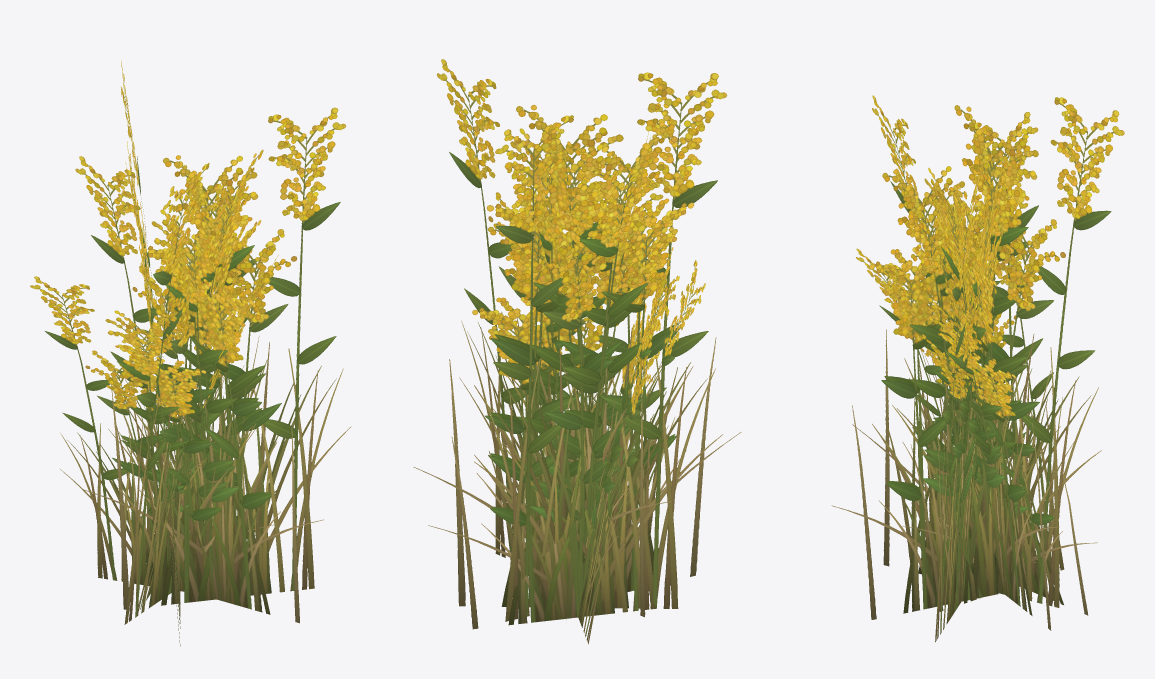
The model's file is Weeds_Autumn_A.fbx.
3 views of the same model, side by side, from view 1: azimuth 30°, elevation 25°; view 2: azimuth 150°, elevation 25°; view 3: azimuth 270°, elevation 25° (orthographic). The views are drawn at different scales.
Visible parts, largest first — view 1: Weeds_Autumn_A; view 2: Weeds_Autumn_A; view 3: Weeds_Autumn_A.
Part boxes in pixels (x1,y1,x2,y2): Weeds_Autumn_A: (30, 60, 351, 646); Weeds_Autumn_A: (413, 59, 741, 644); Weeds_Autumn_A: (831, 95, 1124, 642).
Bounding box in the file's own units: 0.611 × 0.9827 × 0.5858.
Materials: 1 (1 with a texture image).
